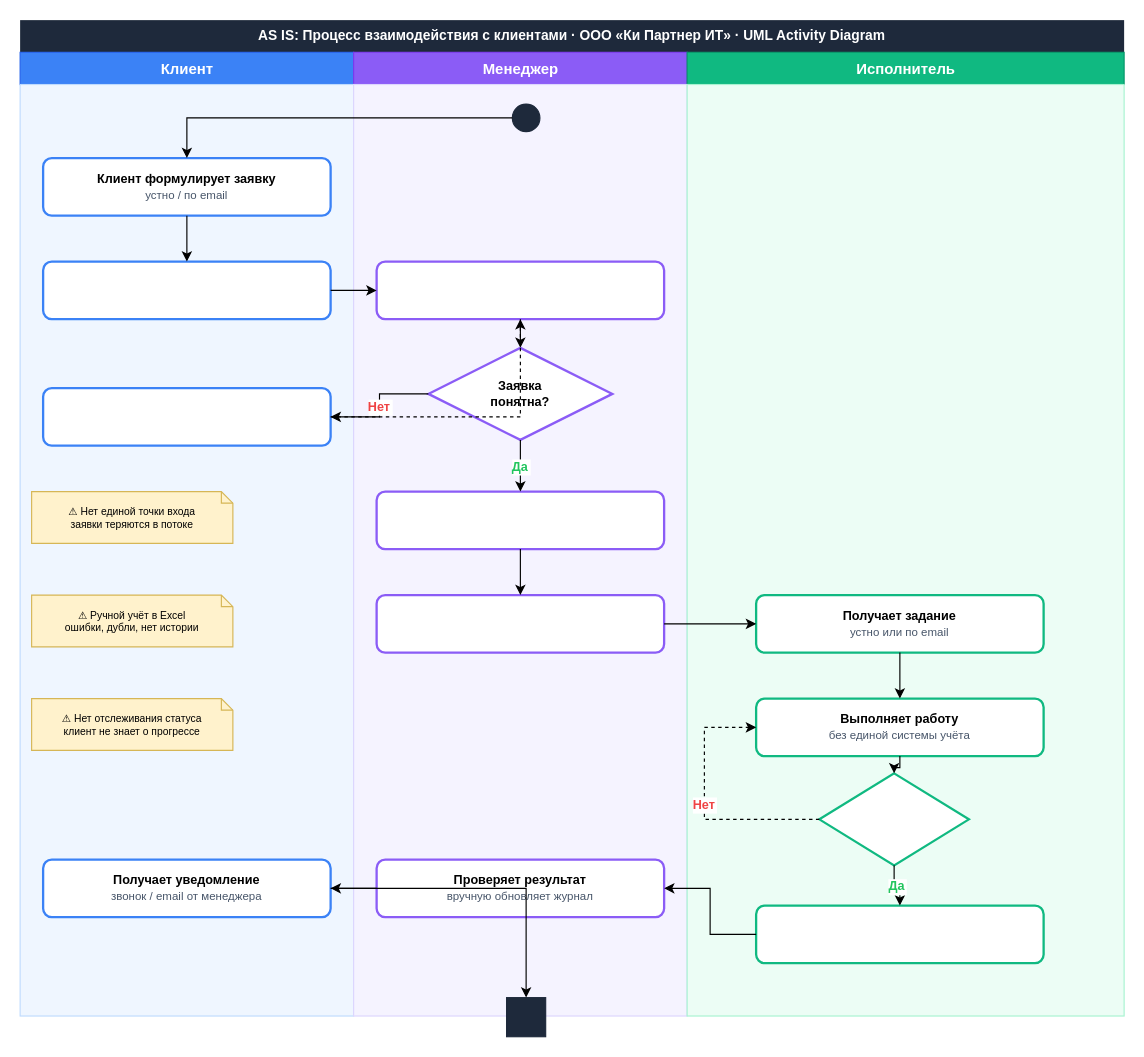
Image size: 1144x1057. Some labels were removed from this diagram. The centre of each missing label's shape, as x and y in pixels:
"Готово?" goes at point 893,819.
"Отвечает на уточнения уточняет детали заявки" goes at point 186,416.
"Отправляет обращение звонок / email / мессенджер" goes at point 186,290.
"Оценивает заявку назначает исполнителя устно" goes at point 520,623.
"Получает обращение по телефону / email" goes at point 520,290.
"Сообщает менеджеру о завершении (устно / email)" goes at point 899,934.
"Фиксирует вручную Excel-таблица / бумажный журнал" goes at point 520,520.
